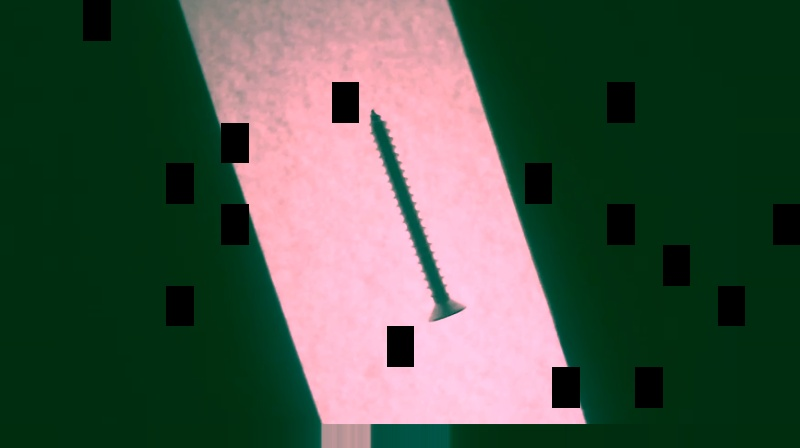S002: (366, 107, 469, 326)
